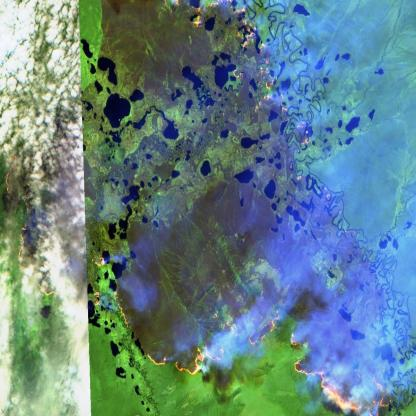fire: (16, 221, 396, 416), (164, 0, 313, 151)
